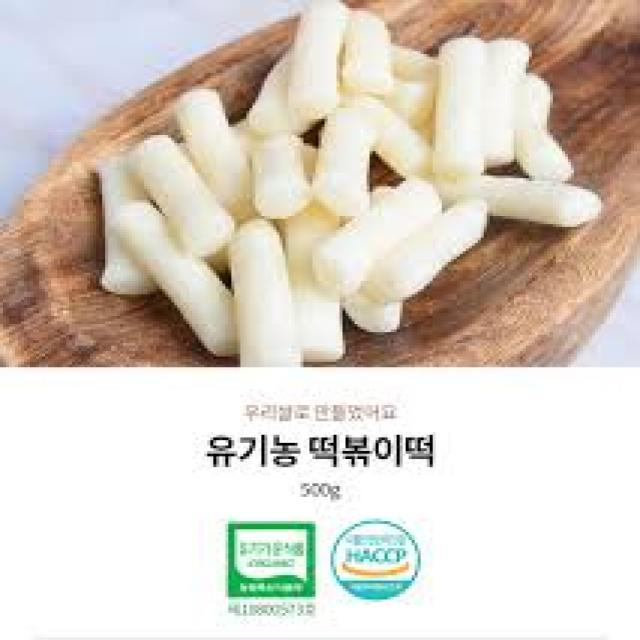rice_cake: (99, 0, 601, 367)
